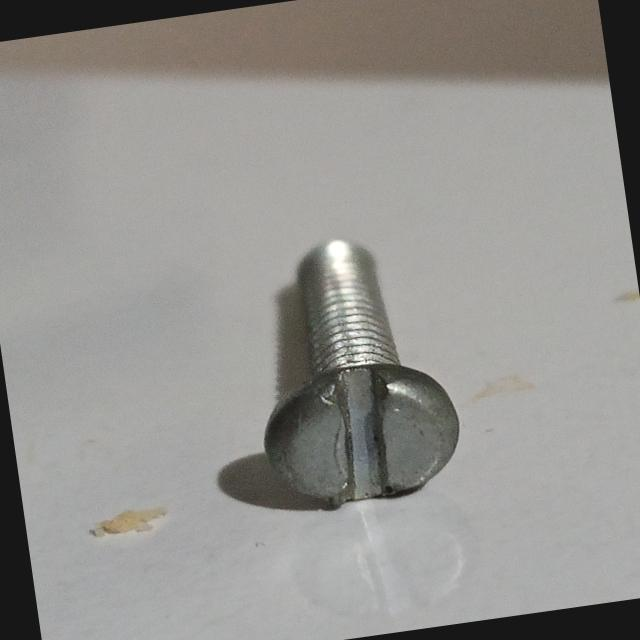Slotted: (248, 347, 471, 521)
